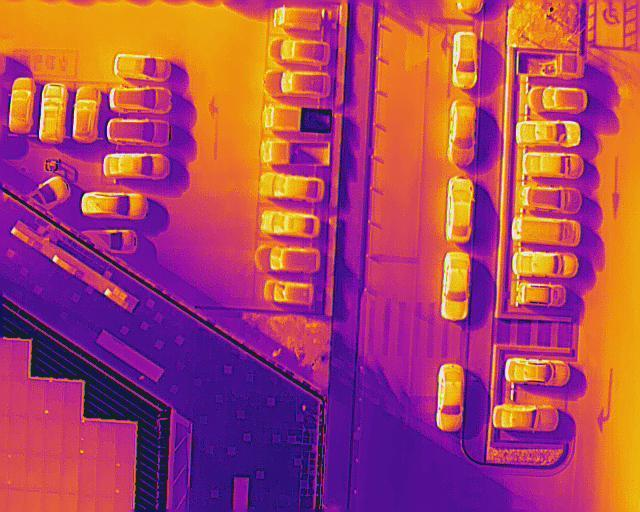Cell-Multi: (114, 458, 134, 496), (79, 421, 98, 459), (7, 453, 26, 491), (45, 381, 63, 419)
No-Anomaly: (78, 456, 98, 496), (62, 381, 82, 419), (44, 417, 63, 456), (96, 457, 115, 496), (26, 418, 45, 455), (61, 419, 80, 456), (61, 455, 79, 494), (9, 379, 27, 417), (44, 455, 62, 493), (28, 379, 45, 419), (9, 416, 27, 453), (98, 422, 116, 459), (11, 341, 28, 380), (26, 454, 43, 492), (117, 423, 135, 458)
